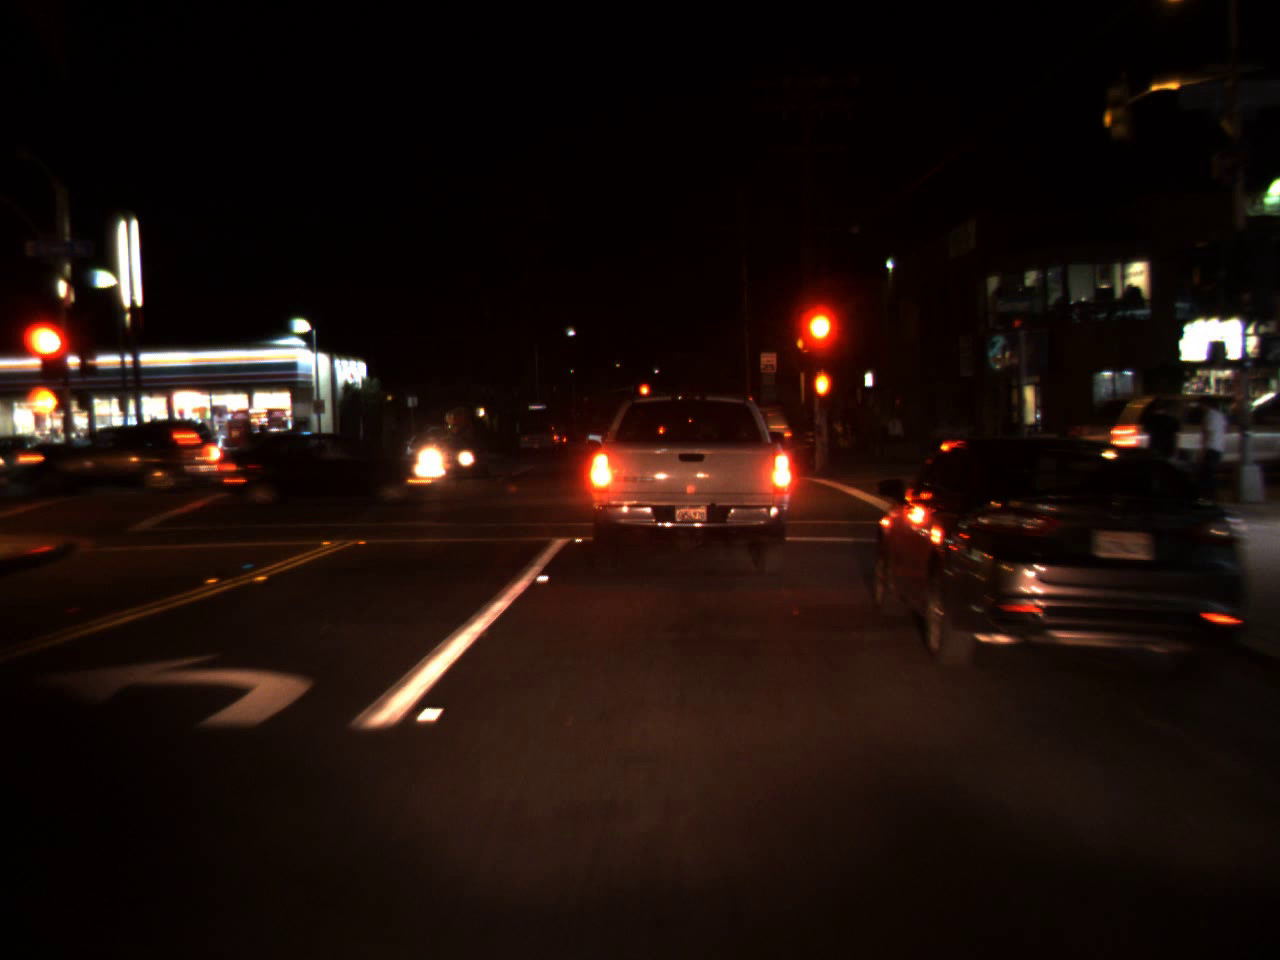stop: (23, 321, 66, 391), (801, 306, 837, 381), (637, 382, 650, 406)
